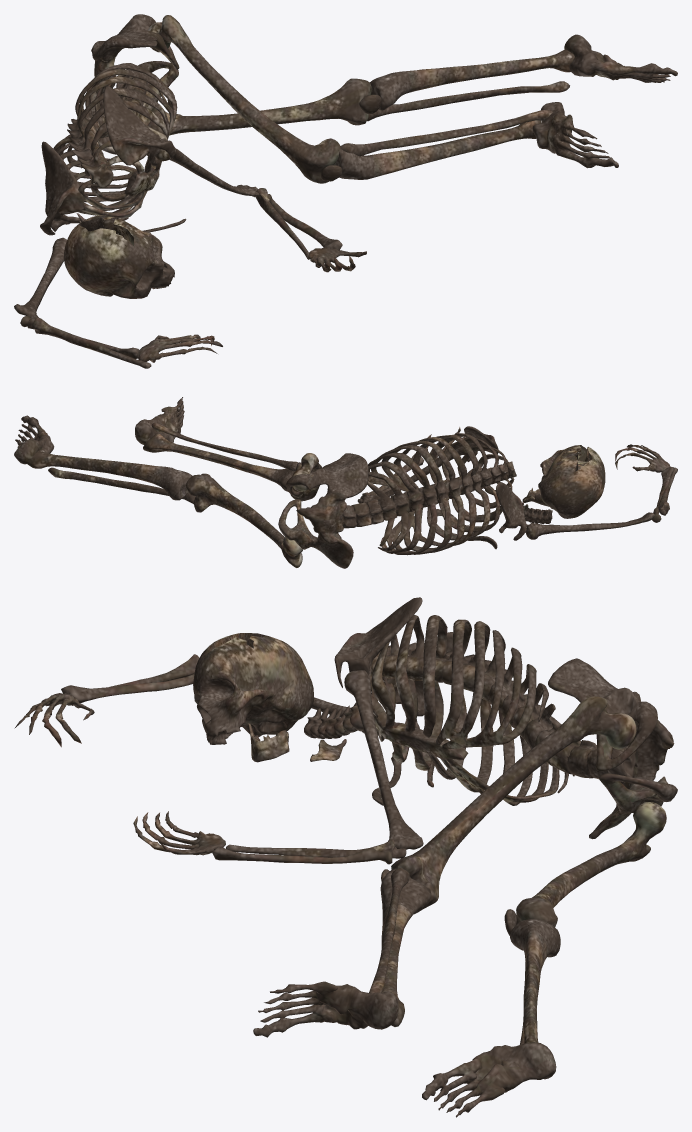
Rendered from SM_Skeleton_03.glb.
The picture shows the model from 3 angles, top to bottom: view 1: azimuth 30°, elevation 25°; view 2: azimuth 150°, elevation 25°; view 3: azimuth 270°, elevation 25°; orthographic projection. The views are drawn at different scales.
Parts seen in each view (by area): view 1: SM_Skeleton_03; view 2: SM_Skeleton_03; view 3: SM_Skeleton_03.
Part boxes in pixels (x1,y1,x2,y2): SM_Skeleton_03: [14, 14, 677, 368]; SM_Skeleton_03: [14, 397, 677, 568]; SM_Skeleton_03: [14, 597, 677, 1117].
Bounding box in the file's own units: 1.91 × 0.384 × 1.21.
1 material, 1 textured.
